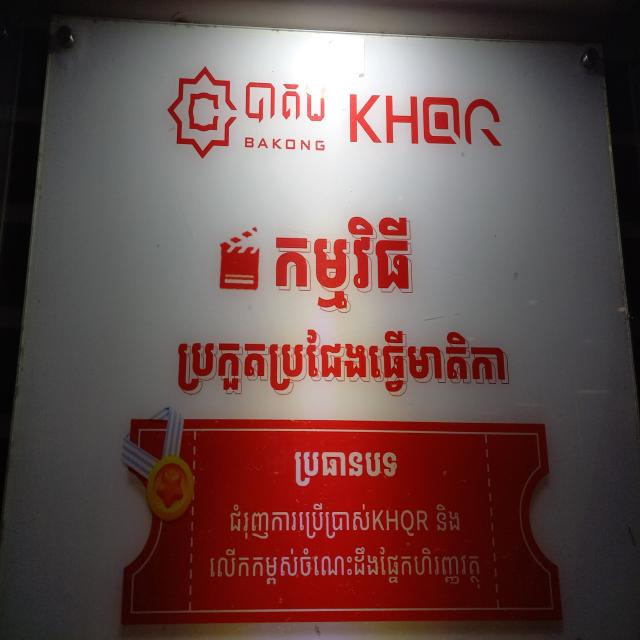894: (175, 318, 514, 399), (272, 205, 420, 310), (206, 545, 483, 591), (242, 68, 331, 132), (225, 502, 373, 540), (292, 446, 398, 488)
Yolov11kh: (430, 498, 469, 537)
